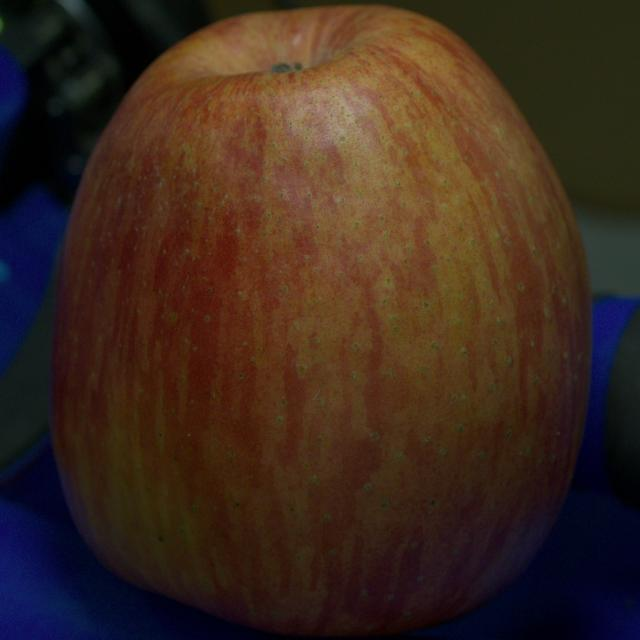apple: (49, 6, 591, 635)
